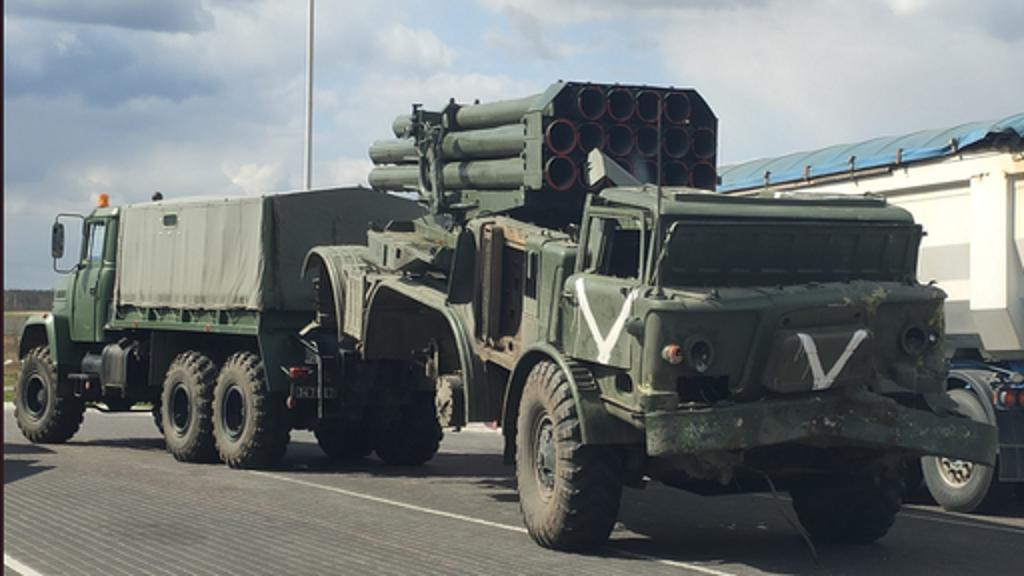MLRS: (336, 58, 980, 548)
TRUCK: (8, 178, 438, 470)
